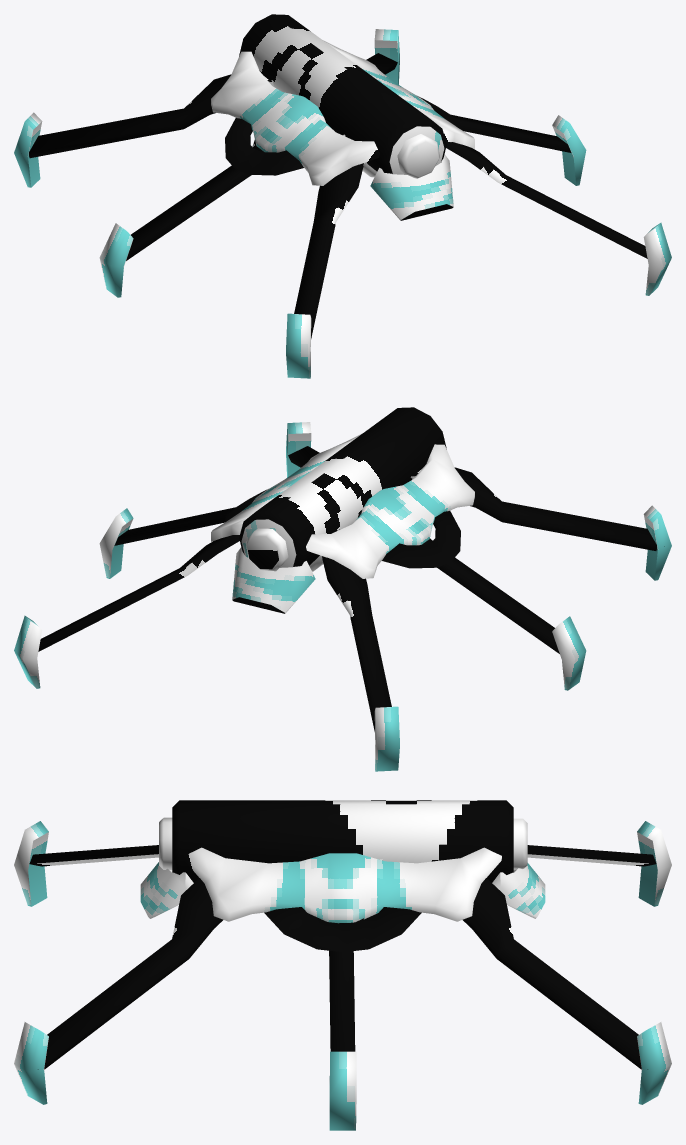
Rendered from widowmaker_mine.obj.
3 renders of one model, top to bottom at view 1: azimuth 30°, elevation 25°; view 2: azimuth 150°, elevation 25°; view 3: azimuth 270°, elevation 25°, orthographic. The views are drawn at different scales.
Parts seen in each view (by area): view 1: Submesh_0.255.6D6E1B6A3E6AEC67.001; view 2: Submesh_0.255.6D6E1B6A3E6AEC67.001; view 3: Submesh_0.255.6D6E1B6A3E6AEC67.001.
Boxes of the visible parts, x1,y1,x2,y2 form: Submesh_0.255.6D6E1B6A3E6AEC67.001: [14, 14, 671, 378]; Submesh_0.255.6D6E1B6A3E6AEC67.001: [14, 407, 671, 771]; Submesh_0.255.6D6E1B6A3E6AEC67.001: [14, 800, 671, 1130].
Size of the model in its own units: 0.4771 by 0.1642 by 0.497.
